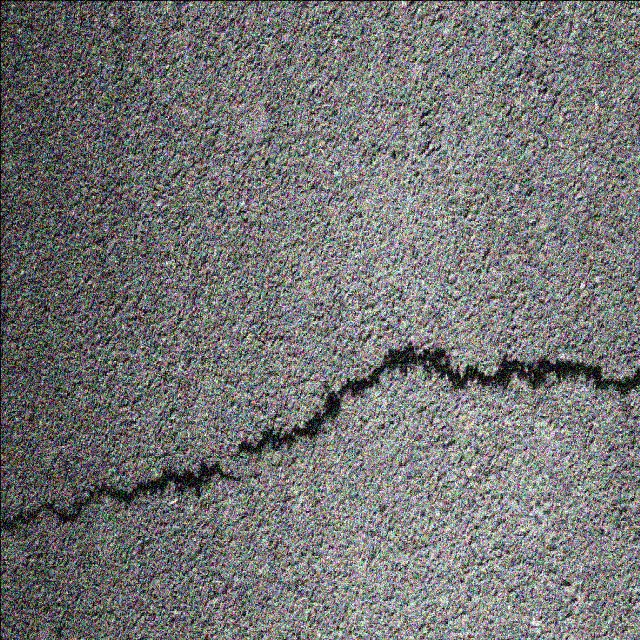SurfaceCrack: (1, 310, 640, 538)
